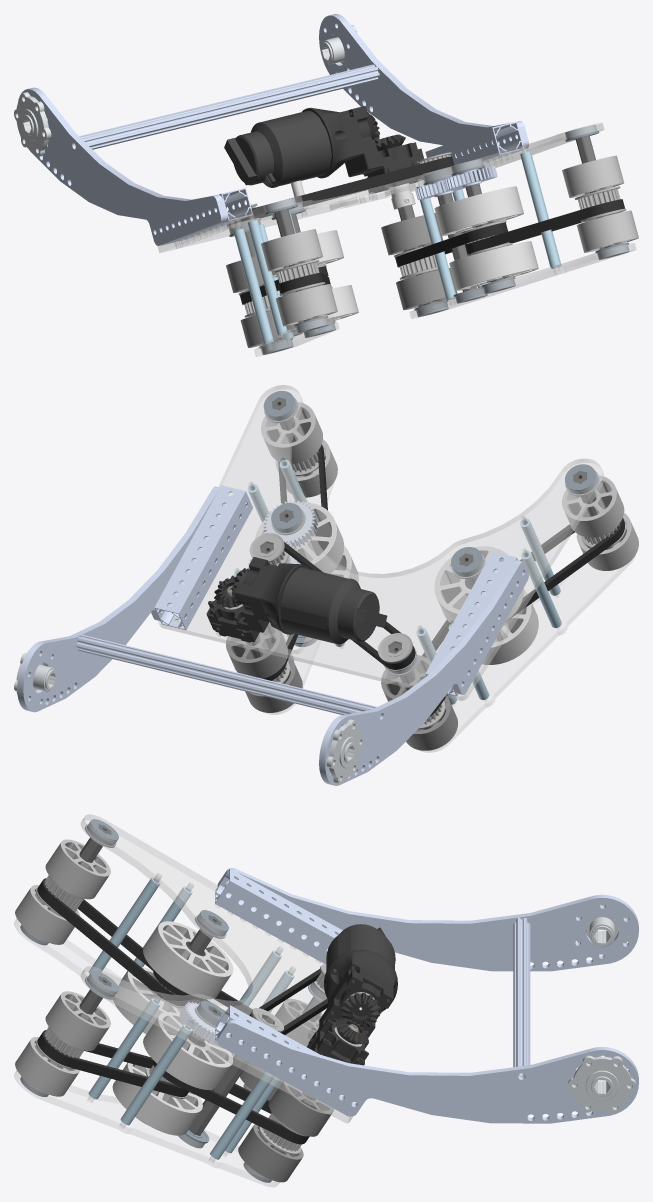
3 renders of one model, top to bottom at view 1: azimuth 30°, elevation 25°; view 2: azimuth 150°, elevation 25°; view 3: azimuth 270°, elevation 25°, orthographic. The views are drawn at different scales.
Visible parts, largest first — view 1: Arm plate L, 2" OD 30A Straight Flex Wheel (217-6353) (×8), am-3946 3IN 500Hex Molded Compliant Wheel VER 2 (×4), Arm plate R, Simplified Falcon 500 Motor (217-6515), Top Plate, Churro (12 in), ROUND Spacer 4.125 in (×4), Tube 1"x1"x5.5" (×2), 2" OD 40A Straight Flex Wheel (217-6354) (×4), 75T 5M 9mm Wide Belt (×2), Bottom plate R (+12 smaller); view 2: Top Plate, Arm plate L, Tube 1"x1"x5.5" (×2), Arm plate R, 2" OD 30A Straight Flex Wheel (217-6353) (×7), Simplified Falcon 500 Motor (217-6515), am-3946 3IN 500Hex Molded Compliant Wheel VER 2 (×3), Bottom Plate L, Churro (12 in), 2" OD 40A Straight Flex Wheel (217-6354) (×5), .5" Hex ID 1.125" OD Flanged Bearing (217-2734) (×4), 75T 5M 9mm Wide Belt (×2) (+10 smaller); view 3: Arm plate R, Top Plate, Arm plate L, am-3946 3IN 500Hex Molded Compliant Wheel VER 2 (×4), 2" OD 30A Straight Flex Wheel (217-6353) (×8), ROUND Spacer 4.125 in (×7), Tube 1"x1"x5.5" (×2), 75T 5M 9mm Wide Belt (×2), 2" OD 40A Straight Flex Wheel (217-6354) (×5), Bottom plate R, am-4124 500 Hex Hub (×2), Churro (12 in) (+13 smaller).
Boxes of the visible parts, bbox=[...] form: Arm plate L: bbox=[18, 87, 227, 245]; 2" OD 30A Straight Flex Wheel (217-6353) (×8): bbox=[261, 155, 638, 326]; am-3946 3IN 500Hex Molded Compliant Wheel VER 2 (×4): bbox=[254, 186, 538, 334]; Arm plate R: bbox=[319, 14, 528, 163]; Simplified Falcon 500 Motor (217-6515): bbox=[224, 110, 331, 187]; Top Plate: bbox=[158, 122, 604, 252]; Churro (12 in): bbox=[79, 64, 379, 149]; ROUND Spacer 4.125 in (×4): bbox=[233, 151, 560, 344]; Tube 1"x1"x5.5" (×2): bbox=[162, 121, 523, 245]; 2" OD 40A Straight Flex Wheel (217-6354) (×4): bbox=[381, 213, 457, 310]; 75T 5M 9mm Wide Belt (×2): bbox=[278, 199, 624, 295]; Bottom plate R: bbox=[409, 243, 636, 318]; Top Plate: bbox=[158, 385, 604, 700]; Arm plate L: bbox=[319, 560, 528, 785]; Tube 1"x1"x5.5" (×2): bbox=[154, 485, 517, 696]; Arm plate R: bbox=[17, 486, 219, 712]; 2" OD 30A Straight Flex Wheel (217-6353) (×7): bbox=[261, 402, 638, 570]; Simplified Falcon 500 Motor (217-6515): bbox=[280, 567, 387, 644]; am-3946 3IN 500Hex Molded Compliant Wheel VER 2 (×3): bbox=[255, 502, 538, 664]; Bottom Plate L: bbox=[419, 555, 635, 752]; Churro (12 in): bbox=[76, 634, 377, 714]; 2" OD 40A Straight Flex Wheel (217-6354) (×5): bbox=[226, 622, 457, 750]; .5" Hex ID 1.125" OD Flanged Bearing (217-2734) (×4): bbox=[263, 391, 599, 578]; 75T 5M 9mm Wide Belt (×2): bbox=[278, 444, 625, 622]; Arm plate R: bbox=[217, 1020, 638, 1123]; Top Plate: bbox=[80, 814, 352, 1123]; Arm plate L: bbox=[217, 868, 638, 971]; am-3946 3IN 500Hex Molded Compliant Wheel VER 2 (×4): bbox=[112, 921, 233, 1135]; 2" OD 30A Straight Flex Wheel (217-6353) (×8): bbox=[15, 839, 110, 1096]; ROUND Spacer 4.125 in (×7): bbox=[88, 877, 281, 1159]; Tube 1"x1"x5.5" (×2): bbox=[215, 868, 356, 1103]; 75T 5M 9mm Wide Belt (×2): bbox=[37, 878, 188, 1097]; 2" OD 40A Straight Flex Wheel (217-6354) (×5): bbox=[238, 998, 333, 1182]; Bottom plate R: bbox=[14, 1070, 278, 1187]; am-4124 500 Hex Hub (×2): bbox=[568, 903, 635, 1112]; Churro (12 in): bbox=[513, 917, 530, 1076].
Size of the model in its own units: 0.3612 by 0.2387 by 0.5401.
